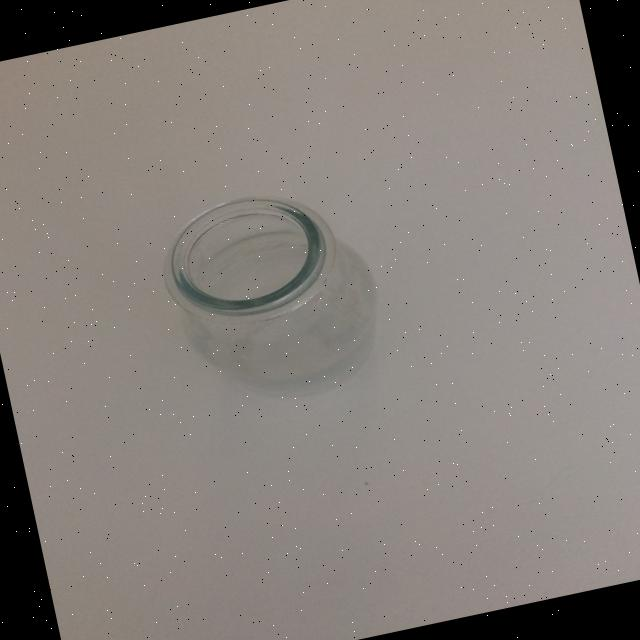glass: (149, 173, 395, 420)
